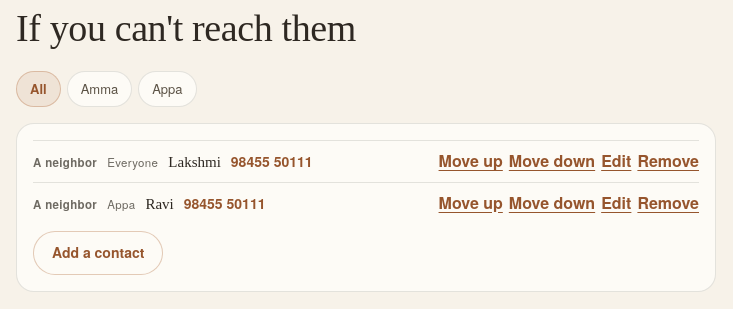
Test: Who to call › shows a household contact under every parent's filter
The image size is (733, 309).
Click the radio button with test id "contact-parent-filter-option" showing "Amma": (99, 89) [67, 71, 132, 107]
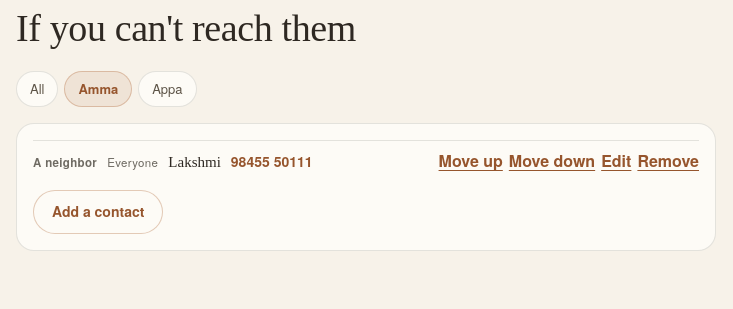
Expected: the text "Lakshmi" is shown, [168, 151, 221, 174]
Now the text "Ravi" is gone
